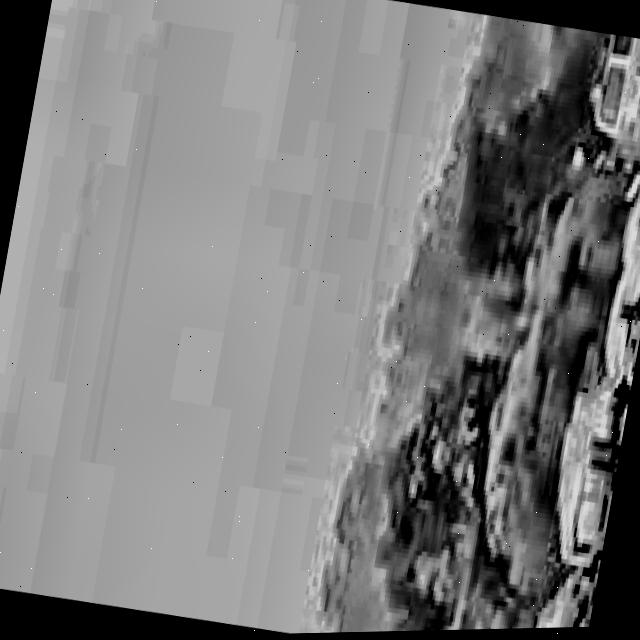Gerbong: (566, 299, 640, 575), (602, 180, 640, 368), (561, 521, 607, 630), (620, 42, 640, 214)
Lokomotif: (569, 32, 640, 178)
